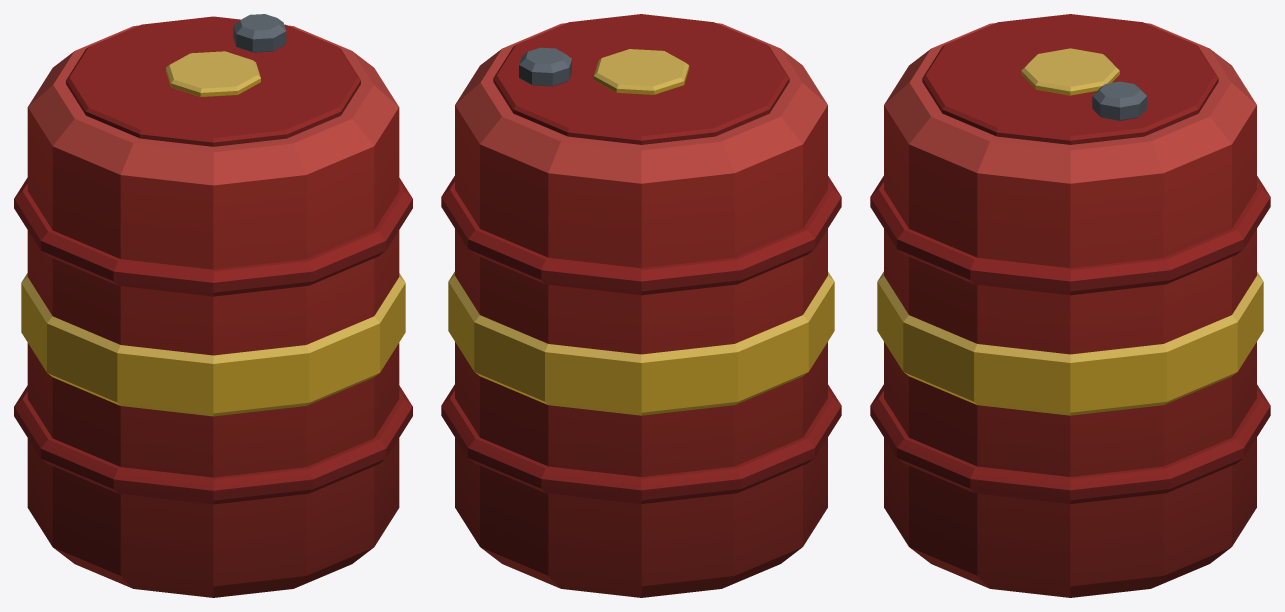
The model's file is barrel.glb.
3 renders of one model, left to right at view 1: azimuth 30°, elevation 25°; view 2: azimuth 150°, elevation 25°; view 3: azimuth 270°, elevation 25°, orthographic.
Visible parts, largest first — view 1: mesh_barrel; view 2: mesh_barrel; view 3: mesh_barrel.
Part boxes in pixels (x1,y1,x2,y2): mesh_barrel: [14, 14, 412, 597]; mesh_barrel: [441, 14, 841, 597]; mesh_barrel: [870, 14, 1270, 597].
Size of the model in its own units: 0.73 by 0.955 by 0.73.
